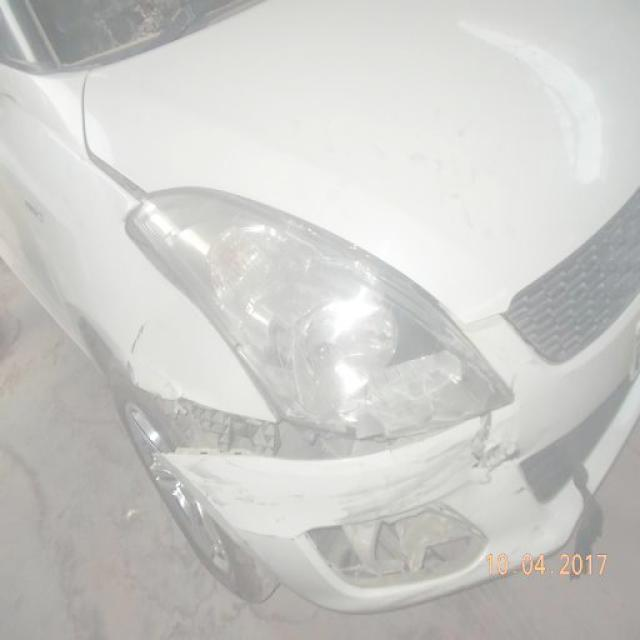car damage: (134, 387, 477, 464), (183, 459, 308, 517)
